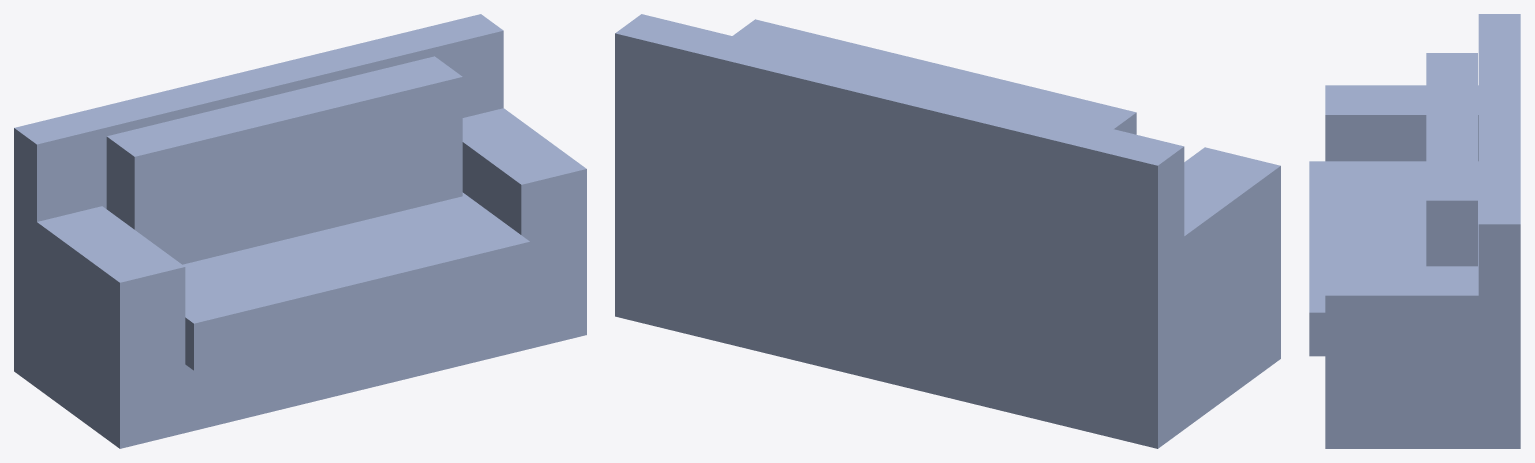
File: big sofa.fbx
The picture shows the model from 3 angles, left to right: view 1: azimuth 30°, elevation 25°; view 2: azimuth 150°, elevation 25°; view 3: azimuth 270°, elevation 25°; orthographic projection. The views are drawn at different scales.
Parts seen in each view (by area): view 1: pasted__comfychair; view 2: pasted__comfychair; view 3: pasted__comfychair.
Boxes of the visible parts, left/top/right/bottom form: pasted__comfychair: left=14, top=14, right=586, bottom=448; pasted__comfychair: left=615, top=14, right=1280, bottom=448; pasted__comfychair: left=1309, top=14, right=1520, bottom=448.
Size of the model in its own units: 5.65 by 2.82 by 2.4.
